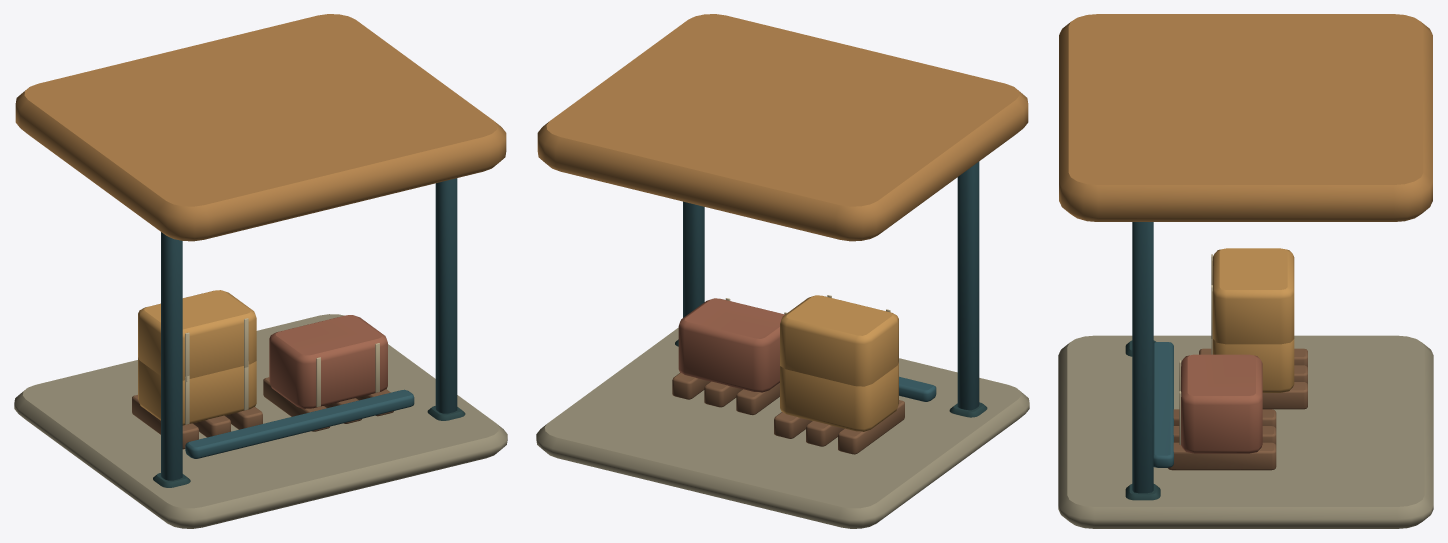
File: annex_truck_3.glb
The picture shows the model from 3 angles, left to right: view 1: azimuth 30°, elevation 25°; view 2: azimuth 150°, elevation 25°; view 3: azimuth 270°, elevation 25°; orthographic projection. The views are drawn at different scales.
Parts seen in each view (by area): view 1: AnnexTruck3; view 2: AnnexTruck3; view 3: AnnexTruck3.
Part boxes in pixels (bbox=[...]): AnnexTruck3: bbox=[14, 14, 507, 528]; AnnexTruck3: bbox=[536, 14, 1029, 528]; AnnexTruck3: bbox=[1058, 14, 1433, 528].
Size of the model in its own units: 2.8 by 2.51 by 2.48.
